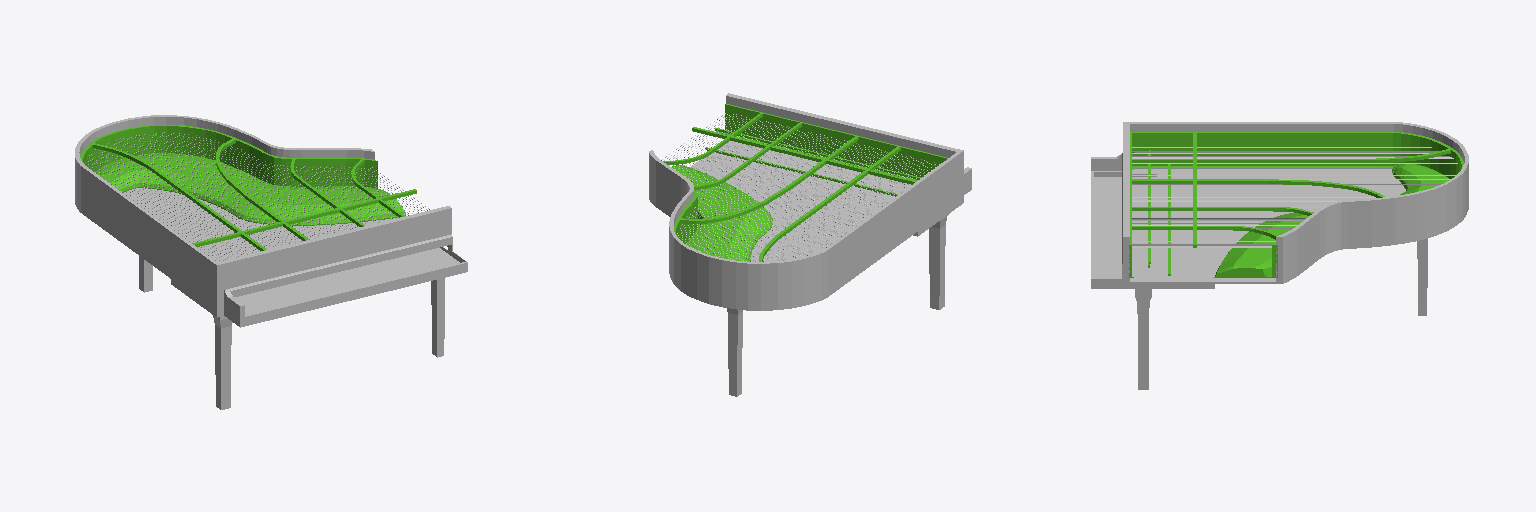
The model's file is piano_body_open.obj.
3 views of the same model, side by side, from view 1: azimuth 30°, elevation 25°; view 2: azimuth 150°, elevation 25°; view 3: azimuth 270°, elevation 25° (orthographic).
Parts seen in each view (by area): view 1: box_Cube.001, meat_Cube.022, STRING.applied_Cylinder.033; view 2: box_Cube.001, meat_Cube.022, STRING.applied_Cylinder.033; view 3: box_Cube.001, meat_Cube.022, STRING.applied_Cylinder.033.
Boxes of the visible parts, x1=… form: box_Cube.001: x1=75, y1=115, x2=467, y2=409; meat_Cube.022: x1=80, y1=125, x2=448, y2=250; STRING.applied_Cylinder.033: x1=84, y1=132, x2=429, y2=260; box_Cube.001: x1=649, y1=93, x2=971, y2=396; meat_Cube.022: x1=663, y1=104, x2=947, y2=261; STRING.applied_Cylinder.033: x1=661, y1=113, x2=939, y2=261; box_Cube.001: x1=1091, y1=122, x2=1468, y2=389; meat_Cube.022: x1=1129, y1=132, x2=1463, y2=277; STRING.applied_Cylinder.033: x1=1132, y1=147, x2=1457, y2=247.
Bounding box in the file's own units: 1.78 × 1.11 × 2.47.